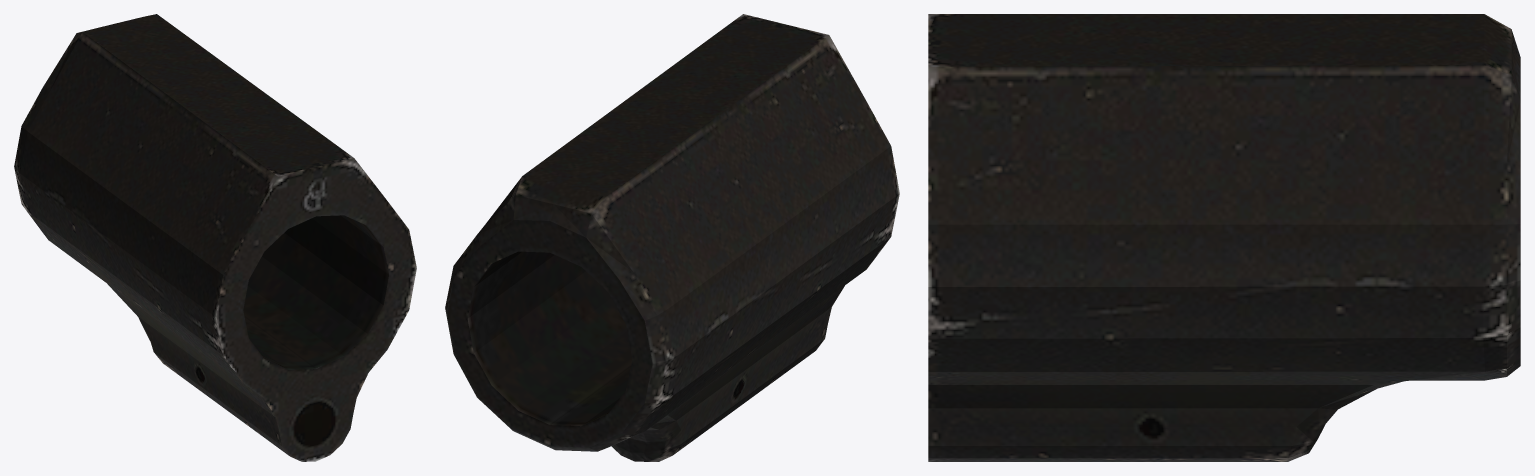
3 views of the same model, side by side, from view 1: azimuth 30°, elevation 25°; view 2: azimuth 150°, elevation 25°; view 3: azimuth 270°, elevation 25° (orthographic). The views are drawn at different scales.
Visible parts, largest first — view 1: TW_56eabcd4d2720b66698b4574_PZ_Import; view 2: TW_56eabcd4d2720b66698b4574_PZ_Import; view 3: TW_56eabcd4d2720b66698b4574_PZ_Import.
Boxes of the visible parts, x1,y1,x2,y2 form: TW_56eabcd4d2720b66698b4574_PZ_Import: (14,14,416,461); TW_56eabcd4d2720b66698b4574_PZ_Import: (445,14,899,461); TW_56eabcd4d2720b66698b4574_PZ_Import: (928,14,1520,461).
Bounding box in the file's own units: 0.0147 × 0.0265 × 0.0205.
Materials: 1 (1 with a texture image).
